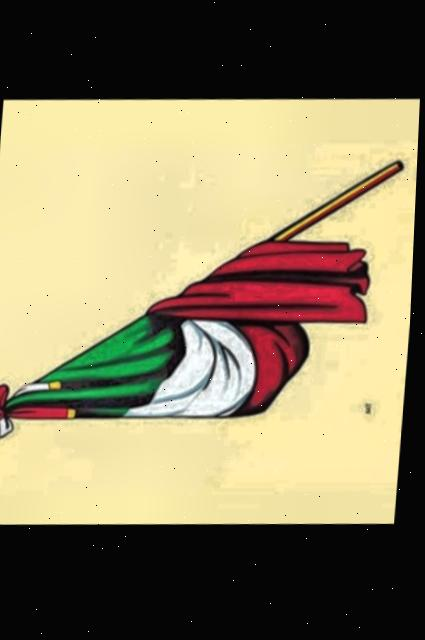La Bandera: (0, 89, 421, 534)
